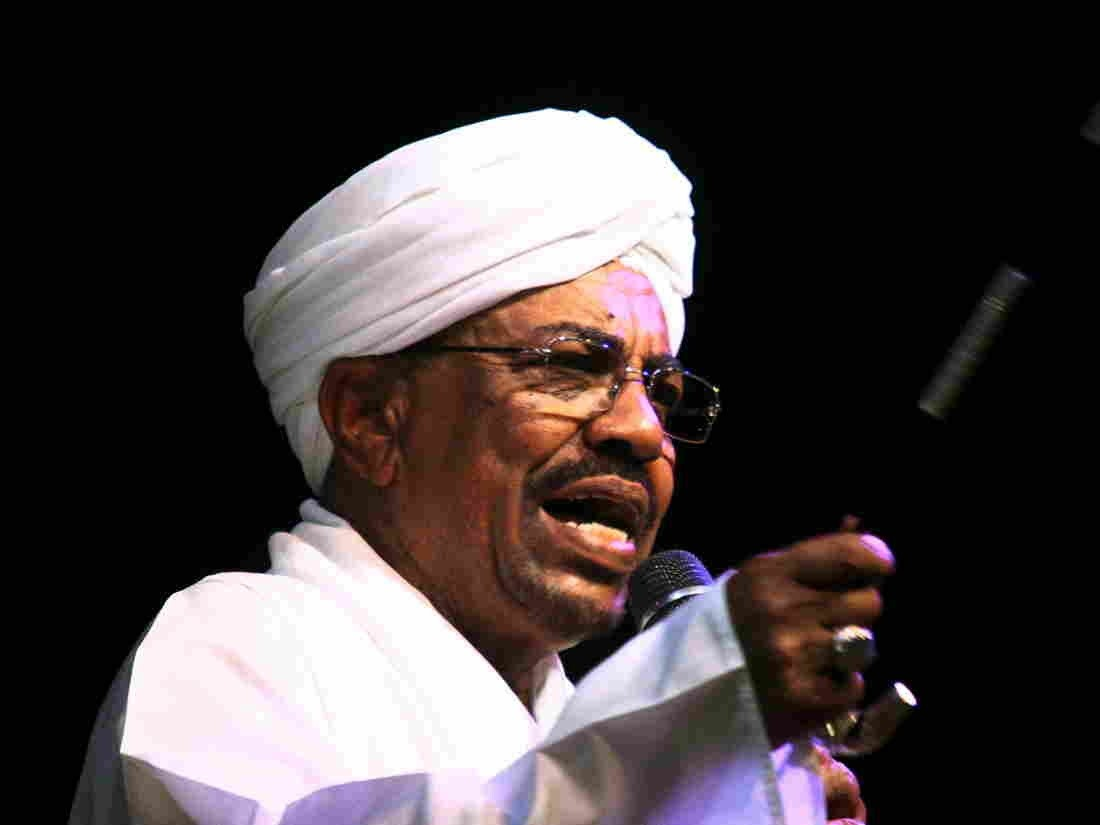face_no_mask: (316, 182, 682, 649)
